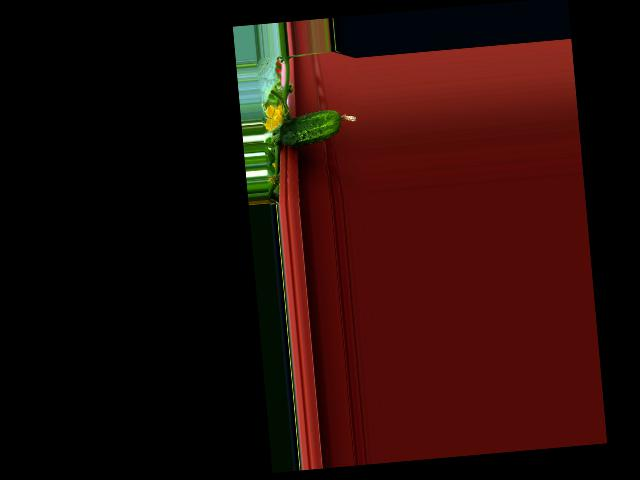cucumber: (277, 107, 359, 147)
